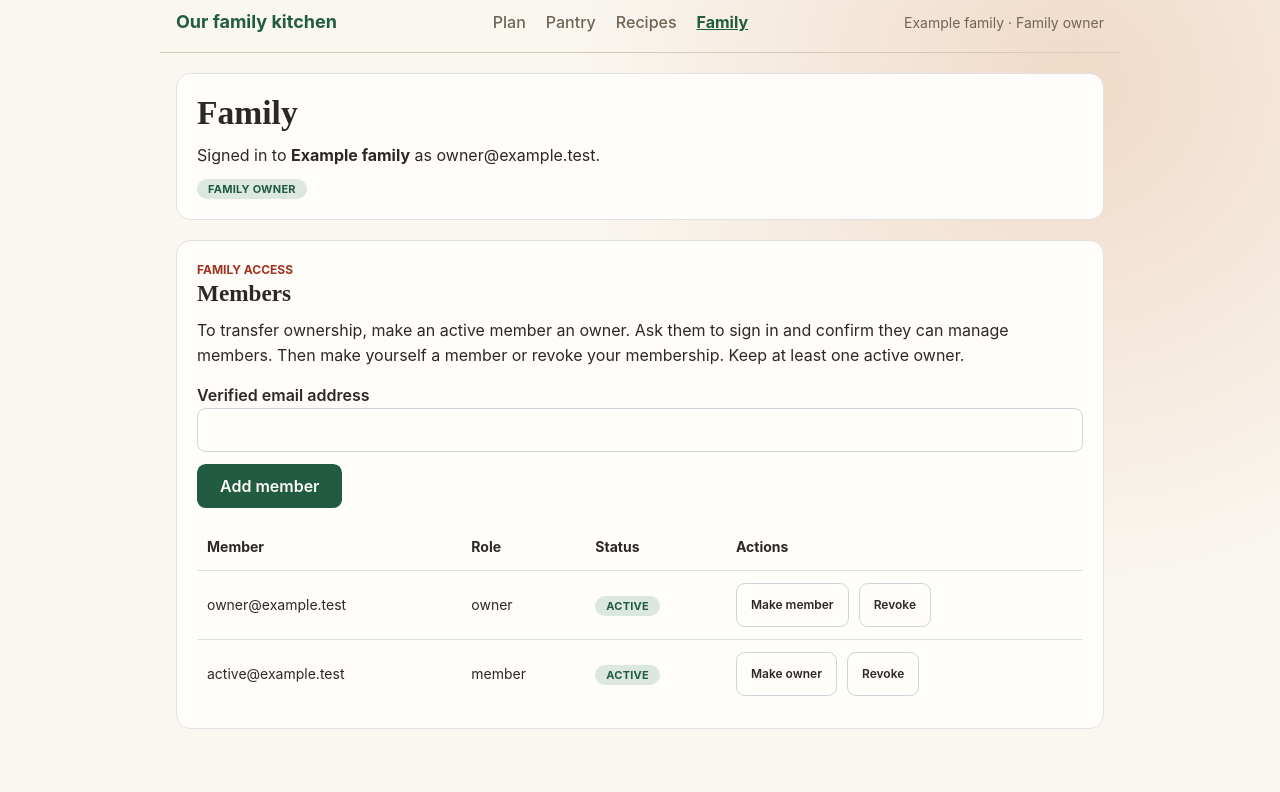
App › promotes an active member without destructive confirmation
Click the button "Make owner" at (786, 674), box [736, 652, 837, 696]
(page scrolled)
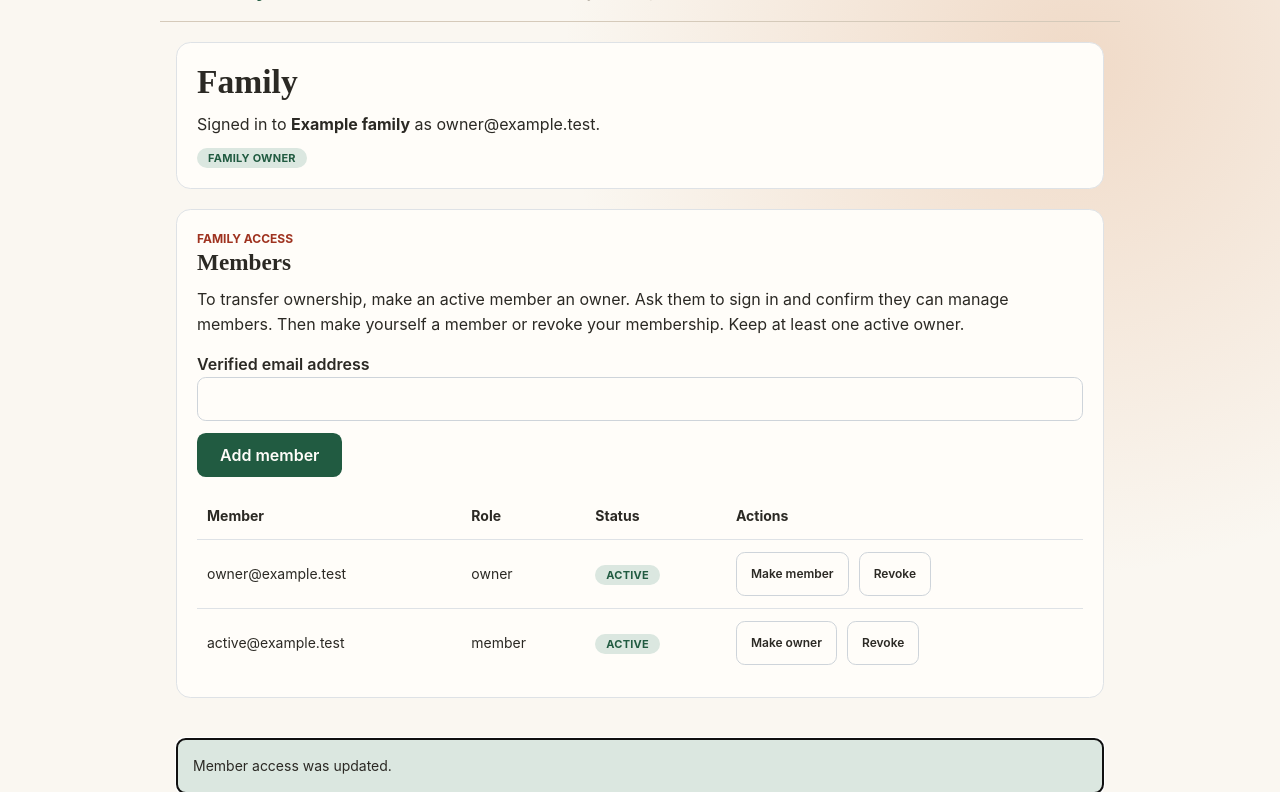
Expected: the text "Member access was updated." is shown, [193, 757, 392, 774]
